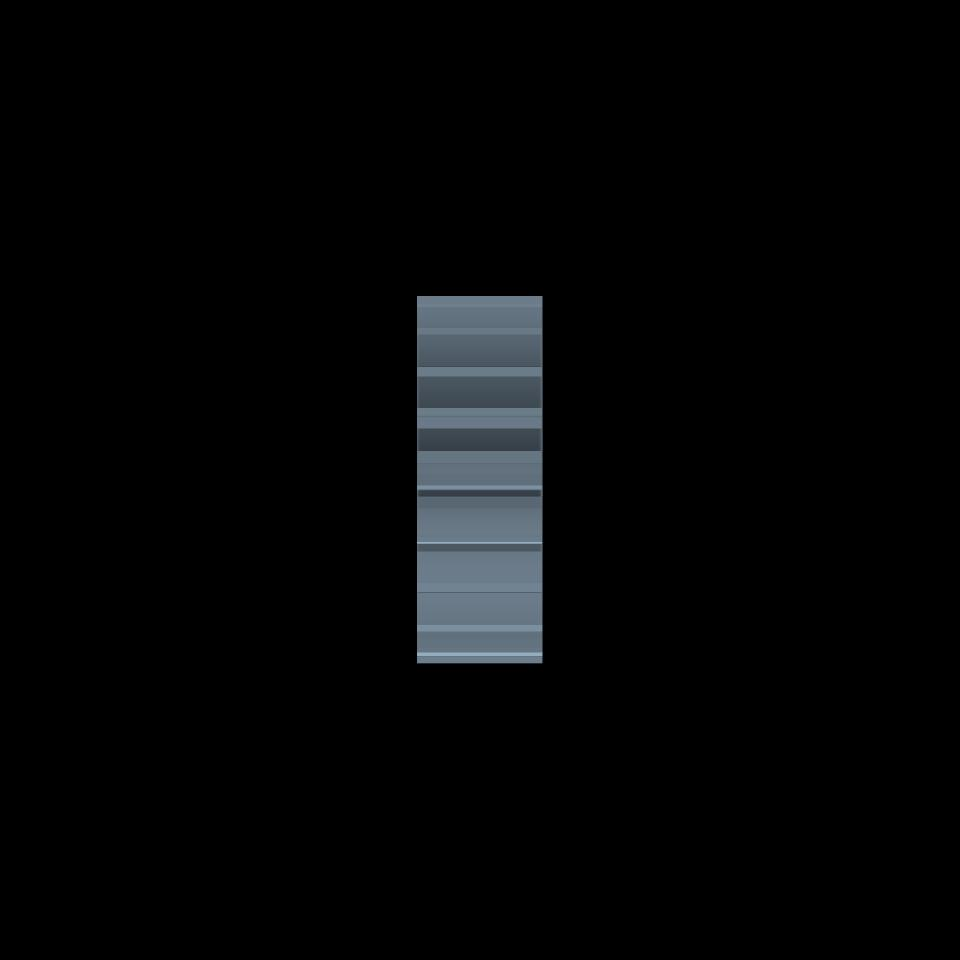Straight: (417, 296, 542, 663)
